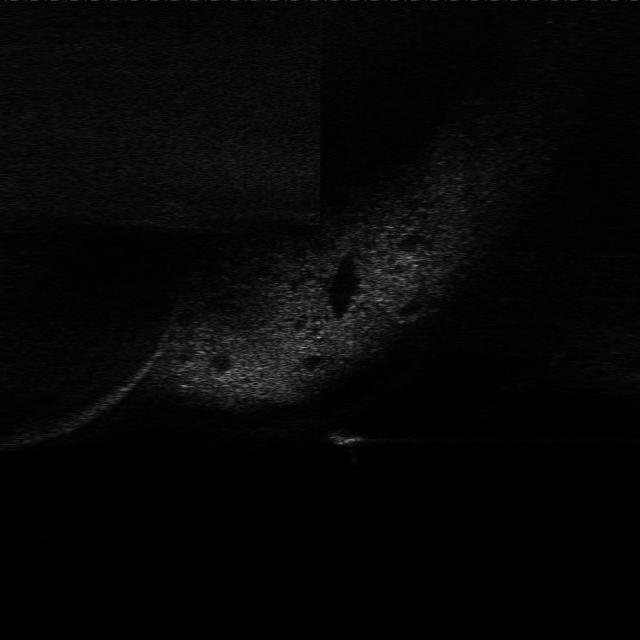cube: (324, 423, 374, 451)
